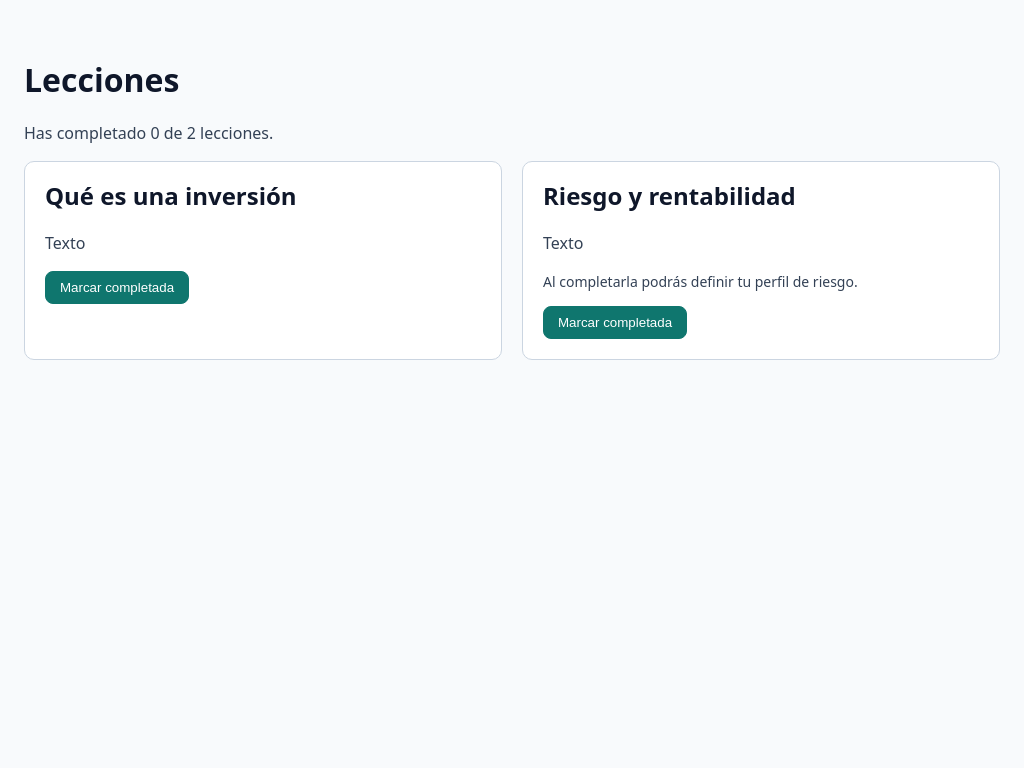
Flujo lección de riesgo → perfil › habilita y guarda el perfil al completar la lección de riesgo
Expected: the text "Al completarla podrás definir tu perfil de riesgo." is shown, [543,272,858,291]
What coordinates should you click on to do the following:
click the button "Marcar completada" below "Riesgo y rentabilidad"
I would click on:
 (615, 322)
Its box is [543,306,687,339].
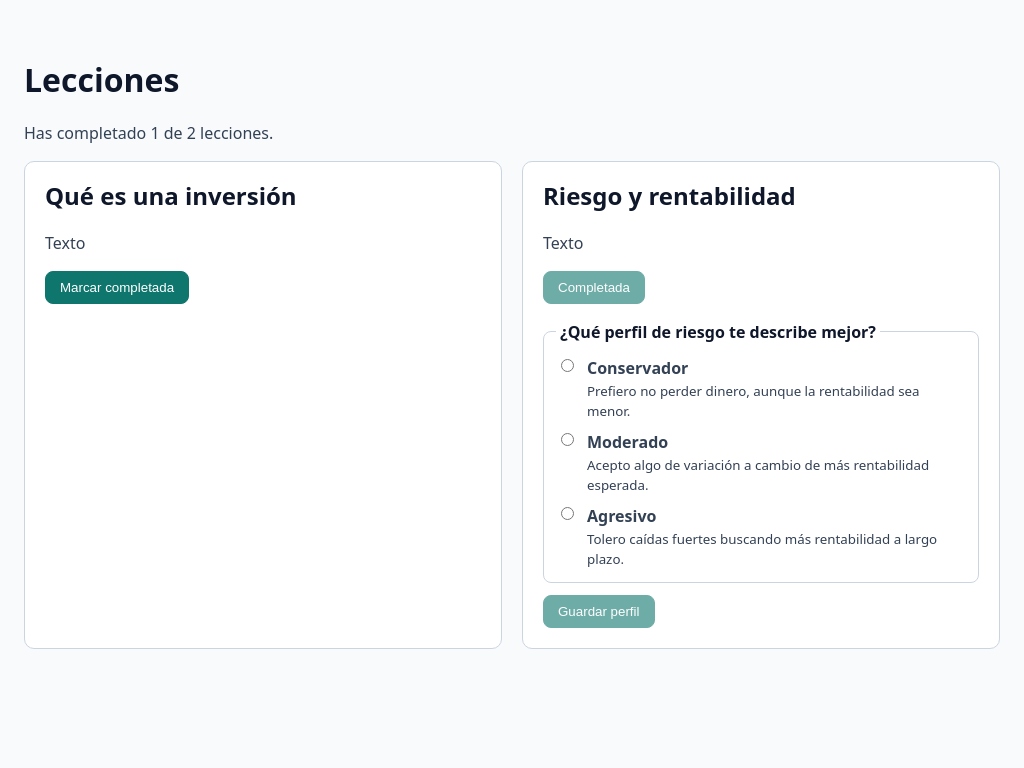
What coordinates should you click on to do the following:
click the radio button labelled "Agresivo"
I would click on:
 (568, 513)
Its box is [561,507,574,520].
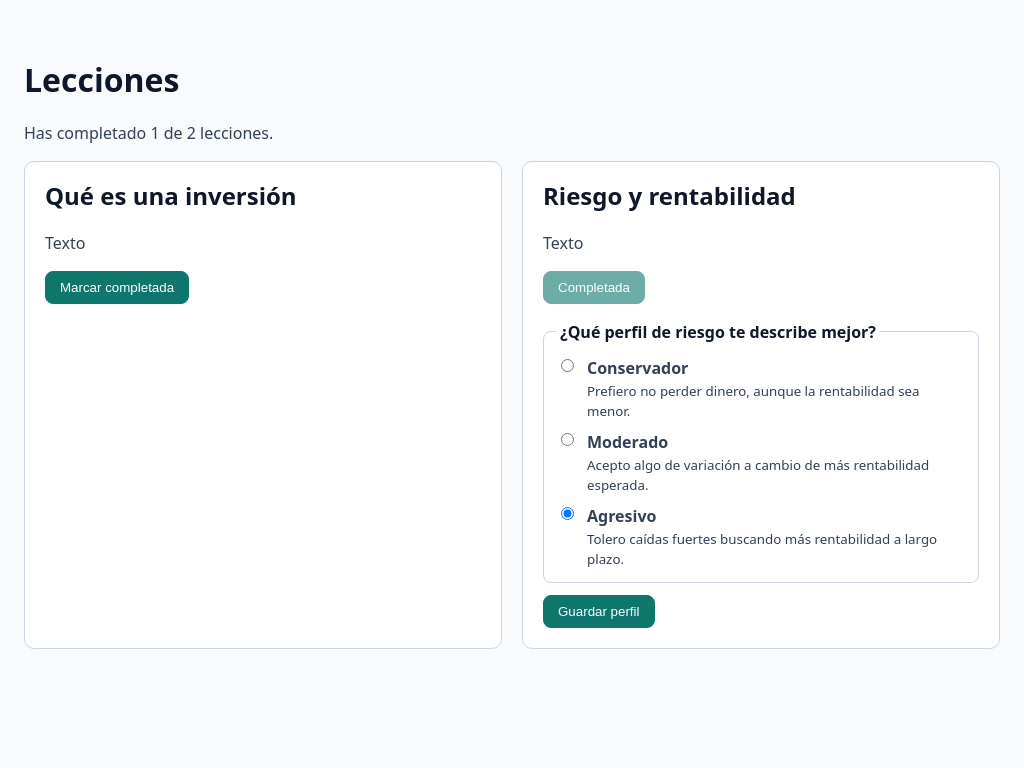
What coordinates should you click on to do the following:
click the button "Guardar perfil"
I would click on:
 (599, 611)
Its box is [543,595,654,628].
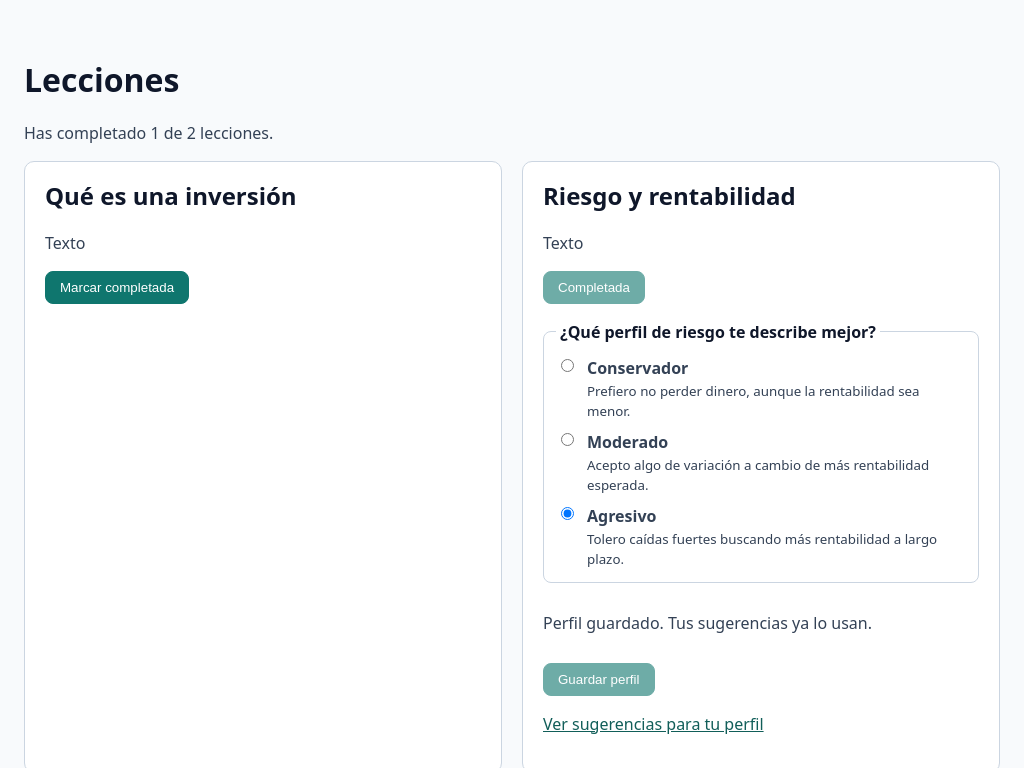
Expected: the text "Perfil guardado. Tus sugerencias ya lo usan." is shown, [543,612,872,634]
Expected: the link "Ver sugerencias para tu perfil" is shown, [543,713,764,735]
